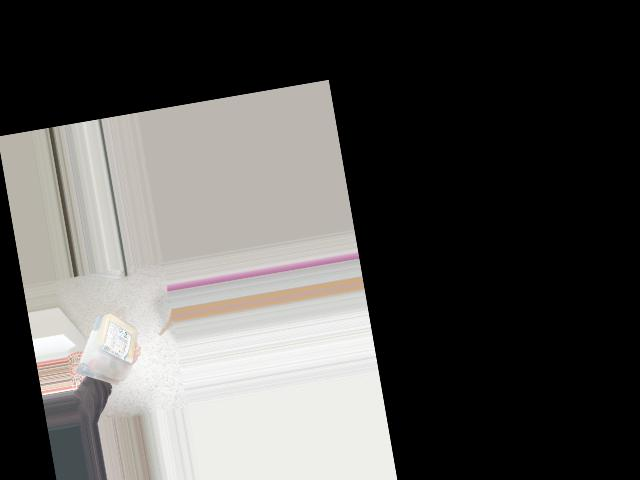cheese: (62, 303, 151, 394)
